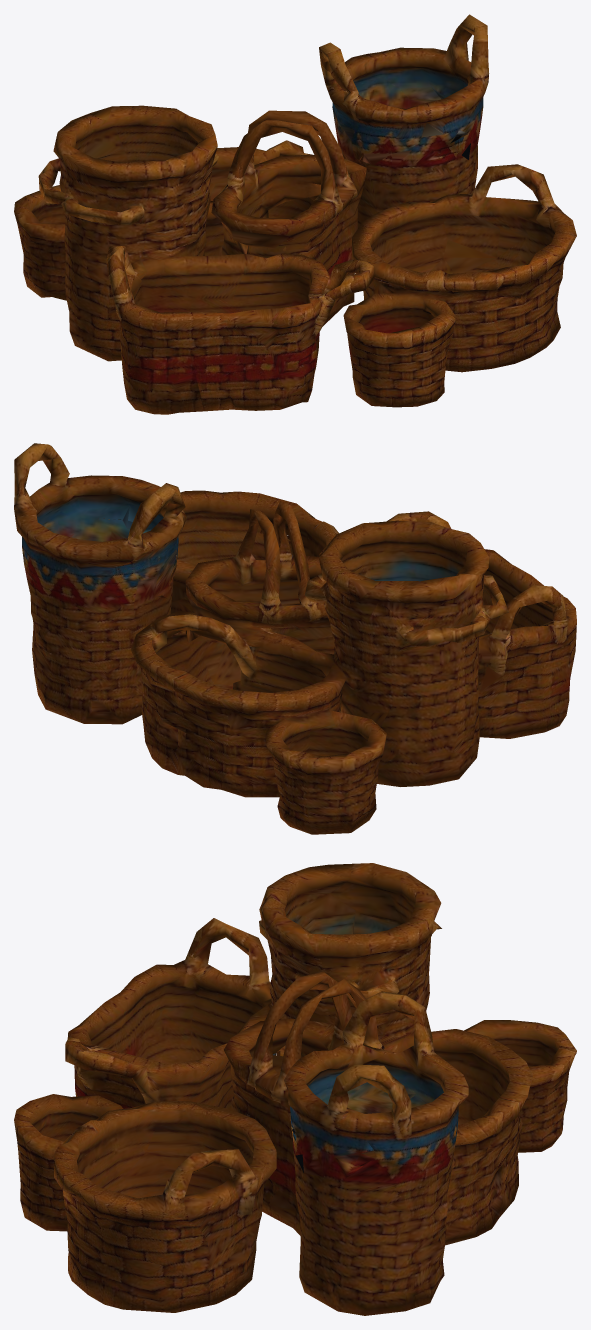
File: cestas_tejidas.glb
3 views of the same model, one above another, from view 1: azimuth 30°, elevation 25°; view 2: azimuth 150°, elevation 25°; view 3: azimuth 270°, elevation 25° (orthographic). The views are drawn at different scales.
Parts seen in each view (by area): view 1: cestas_tejidas; view 2: cestas_tejidas; view 3: cestas_tejidas.
Part boxes in pixels (x1,y1,x2,y2): cestas_tejidas: (14, 14, 576, 414); cestas_tejidas: (14, 443, 576, 834); cestas_tejidas: (14, 863, 576, 1315).
Size of what is drawn, in the model's own units: 0.8158 by 0.3995 by 0.7768.
Materials: 1 (1 with a texture image).
